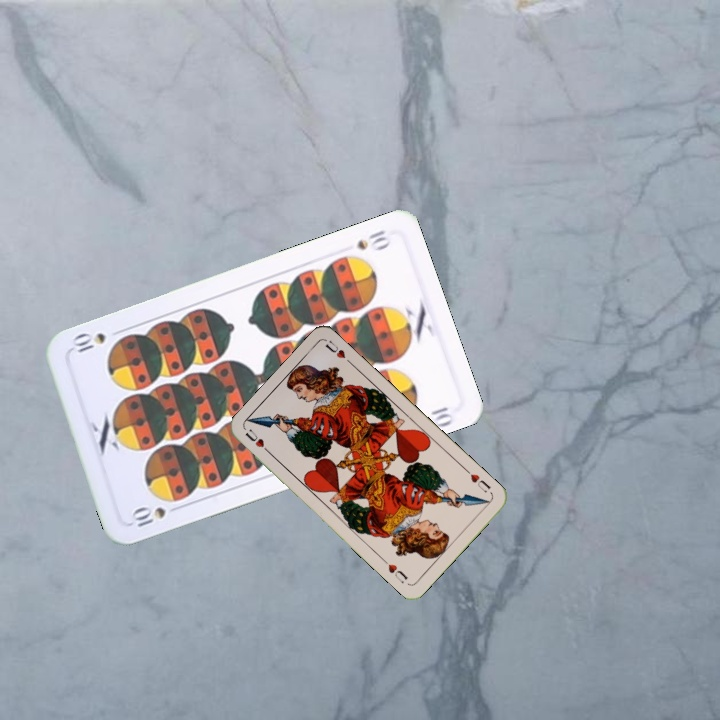HU: (241, 425, 274, 457), (466, 470, 493, 495)
S10: (127, 501, 185, 531), (352, 226, 394, 253)
